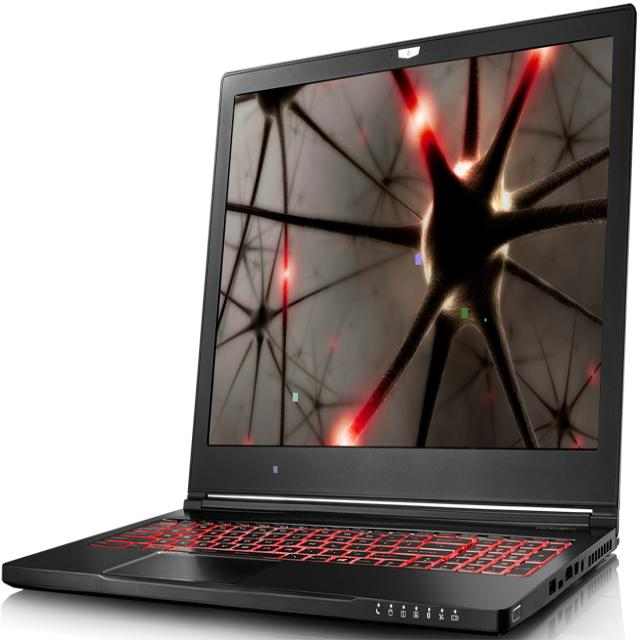dead_pixel: (461, 308, 467, 318), (415, 254, 421, 264), (293, 393, 297, 401), (273, 466, 277, 472), (323, 330, 324, 332), (485, 319, 486, 320)
